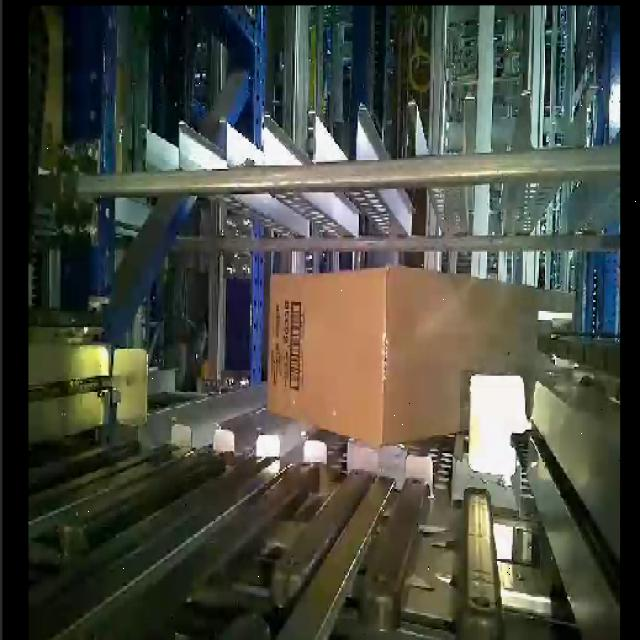box: (383, 266, 539, 452)
